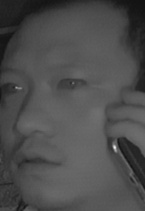eye: (57, 74, 88, 93), (2, 79, 27, 97)
mouth: (13, 147, 65, 176)
